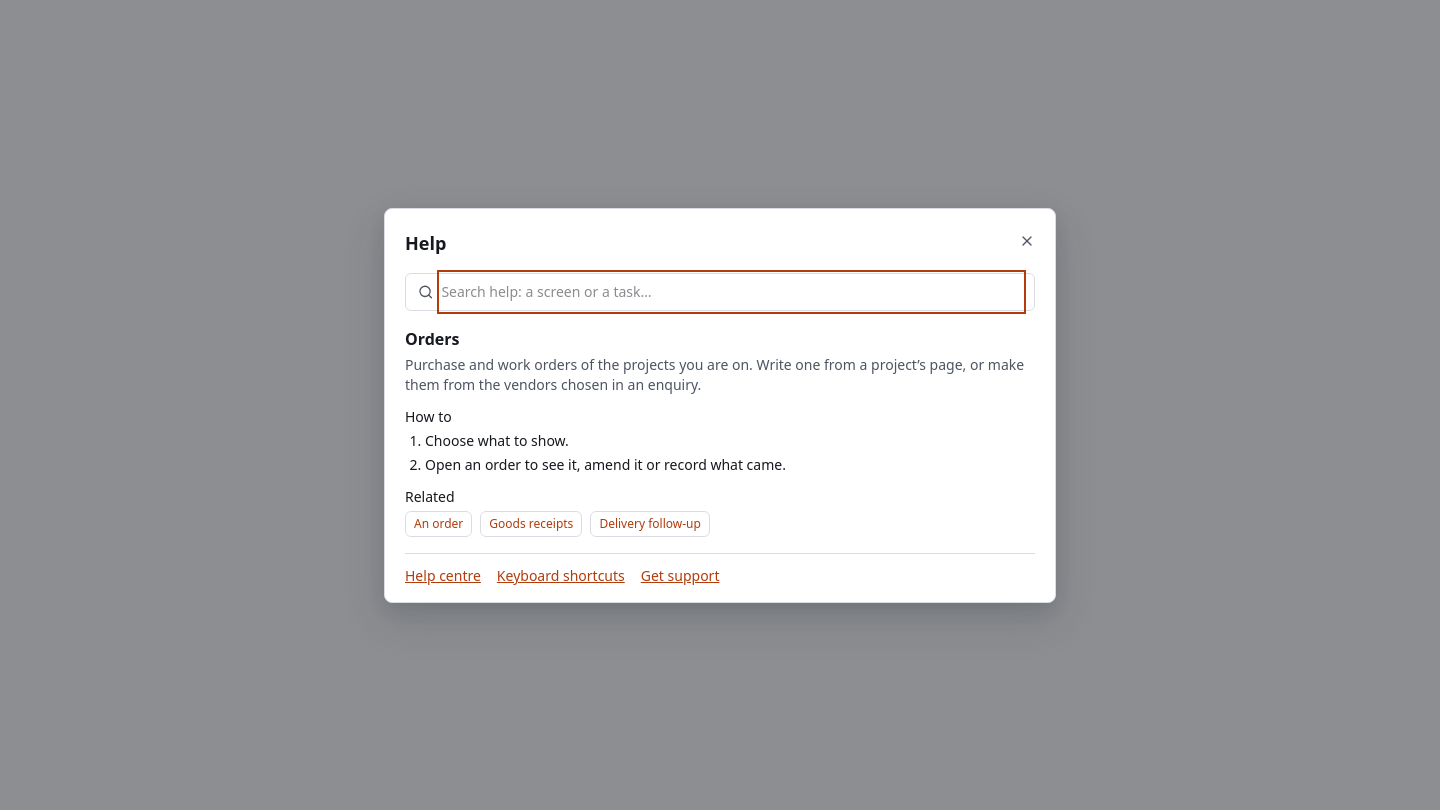
Test: HelpPanel › searches, moves through the results with the arrow keys and opens one with Enter
Type "receipt" into the search field labelled "Search help" at (732, 292), box [441,274,1022,310]
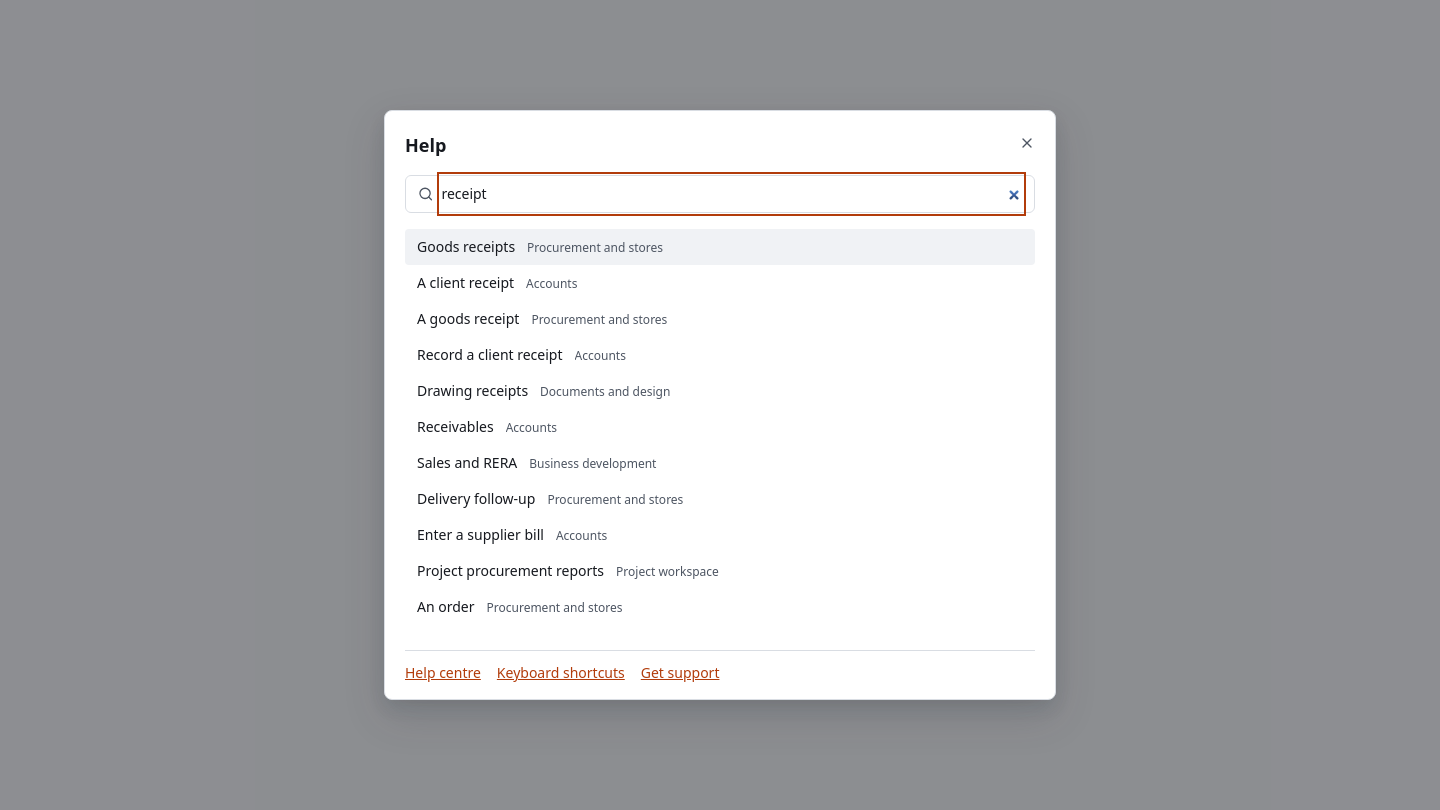
Press ArrowDown in the search field named "Search help", box [441,176,1022,212]
Press Enter in the search field named "Search help", box [441,176,1022,212]
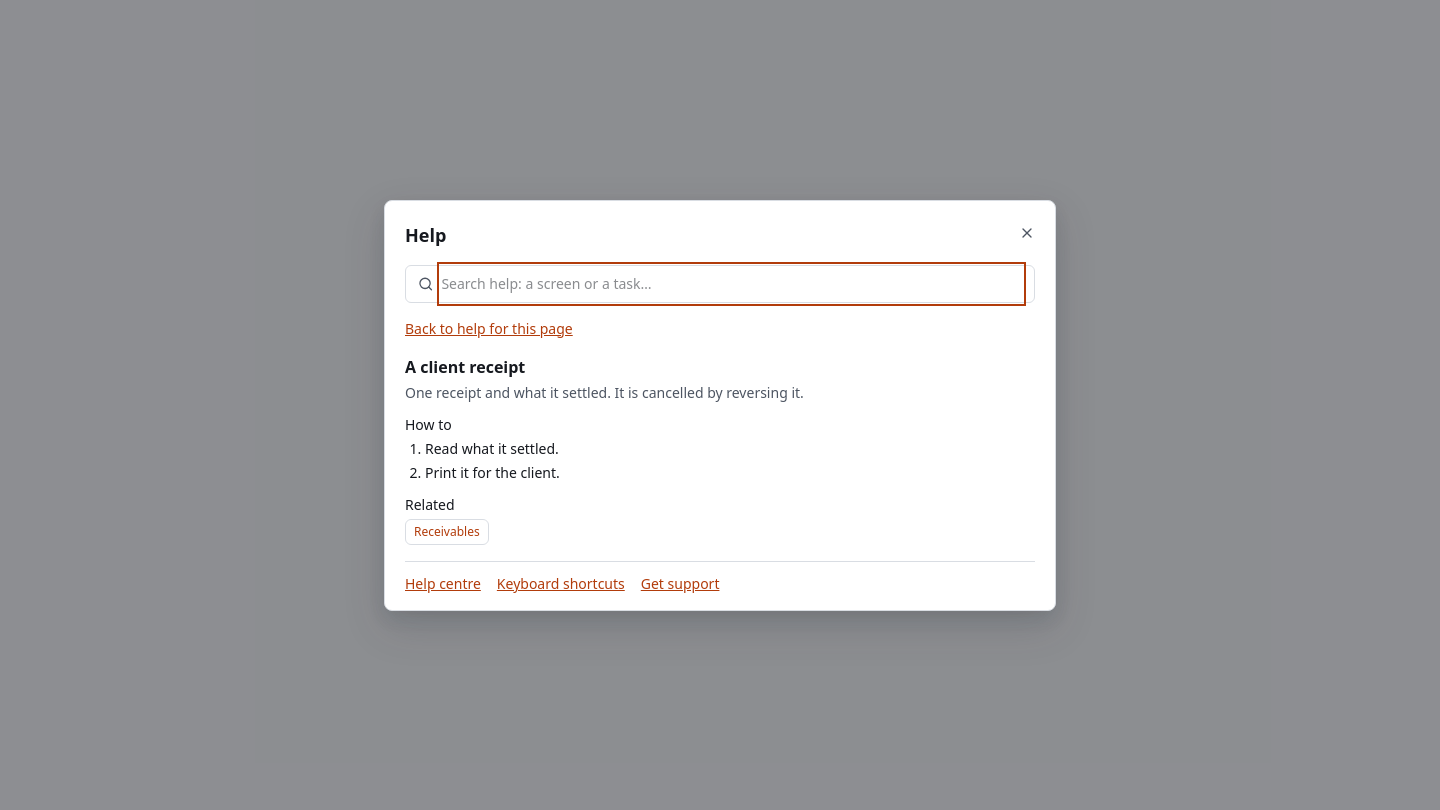
Expected: the button "Back to help for this page" is shown, [405,318,573,338]
